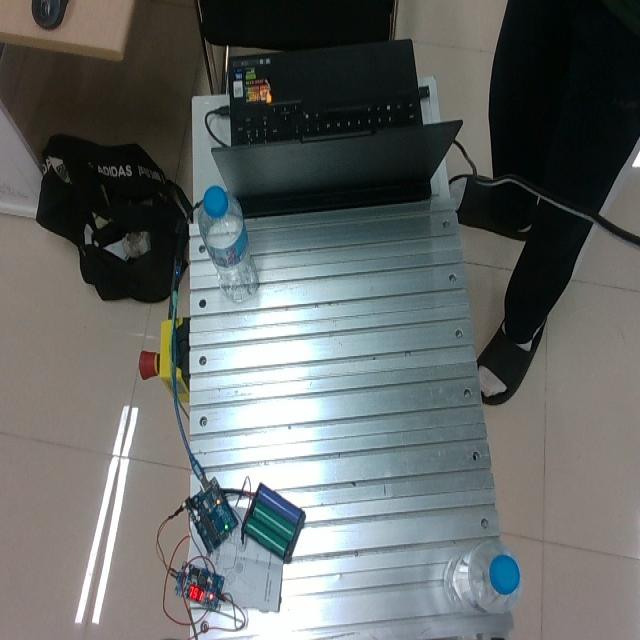lavie: (198, 184, 260, 304), (443, 540, 521, 615)
